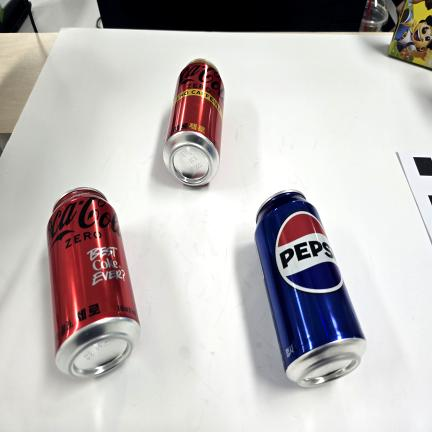can_coke_decaf: (163, 59, 225, 186)
can_coke_zero: (47, 188, 140, 377)
can_pepsi: (255, 190, 366, 387)
